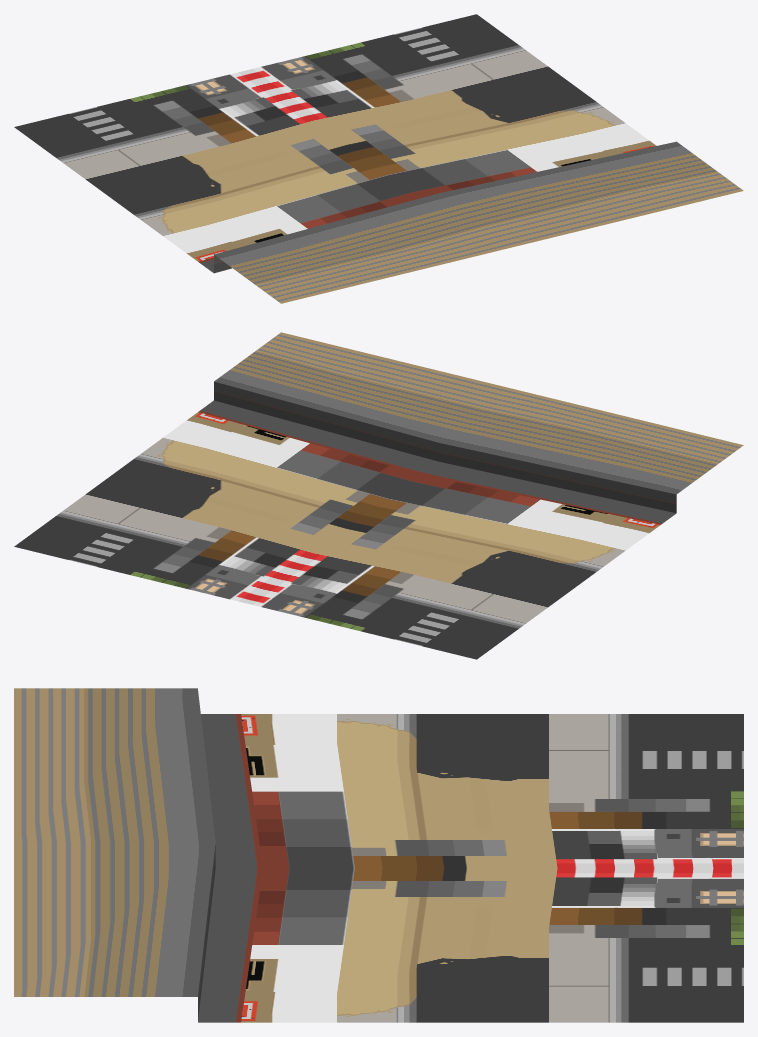
The model's file is road_Asphalt_Short.gltf.
3 renders of one model, top to bottom at view 1: azimuth 30°, elevation 25°; view 2: azimuth 150°, elevation 25°; view 3: azimuth 270°, elevation 25°, orthographic. The views are drawn at different scales.
Visible parts, largest first — view 1: road_Asphalt_Short; view 2: road_Asphalt_Short; view 3: road_Asphalt_Short.
Part boxes in pixels (x1=…): road_Asphalt_Short: x1=14, y1=14, x2=743, y2=303; road_Asphalt_Short: x1=14, y1=332, x2=743, y2=659; road_Asphalt_Short: x1=14, y1=688, x2=743, y2=1022.
Bounding box in the file's own units: 5 × 0.1948 × 5.
Materials: 1 (1 with a texture image).
